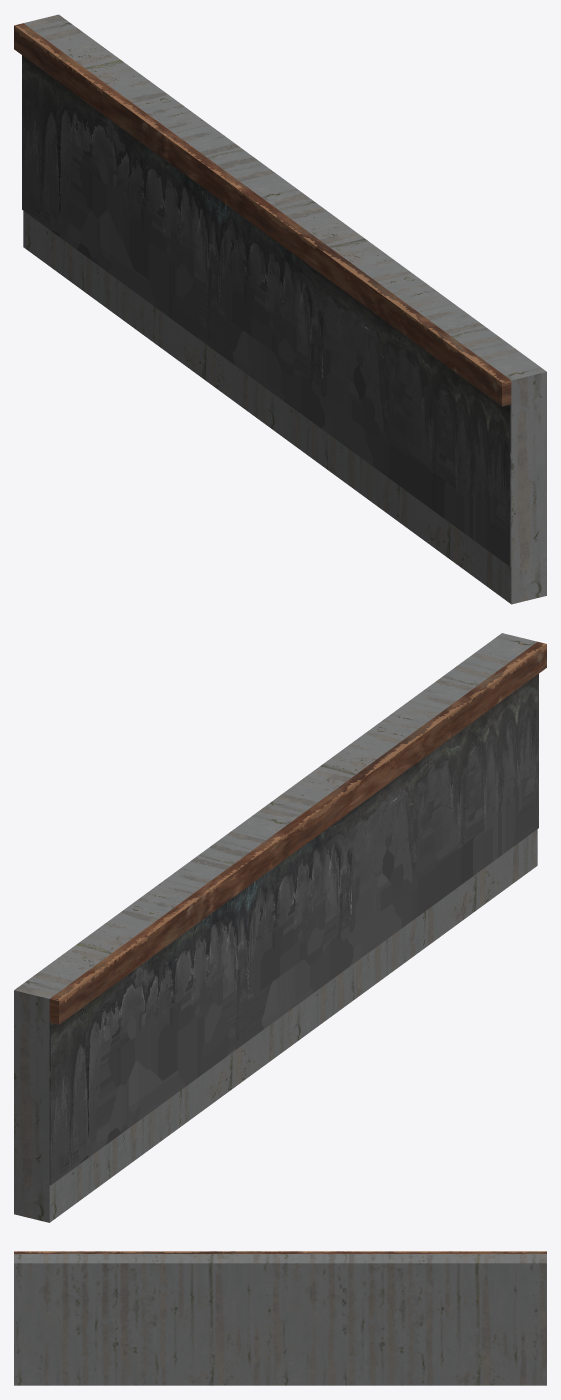
The model's file is Kit_FlatRoofAsbestos.fbx.
3 renders of one model, top to bottom at view 1: azimuth 30°, elevation 25°; view 2: azimuth 150°, elevation 25°; view 3: azimuth 270°, elevation 25°, orthographic. The views are drawn at different scales.
Parts seen in each view (by area): view 1: Kit_FlatRoofAsbestos; view 2: Kit_FlatRoofAsbestos; view 3: Kit_FlatRoofAsbestos.
Part boxes in pixels (x1,y1,x2,y2): Kit_FlatRoofAsbestos: (14, 14, 546, 604); Kit_FlatRoofAsbestos: (14, 633, 546, 1222); Kit_FlatRoofAsbestos: (14, 1251, 546, 1385).
Bounding box in the file's own units: 8.36 × 39.87 × 157.
